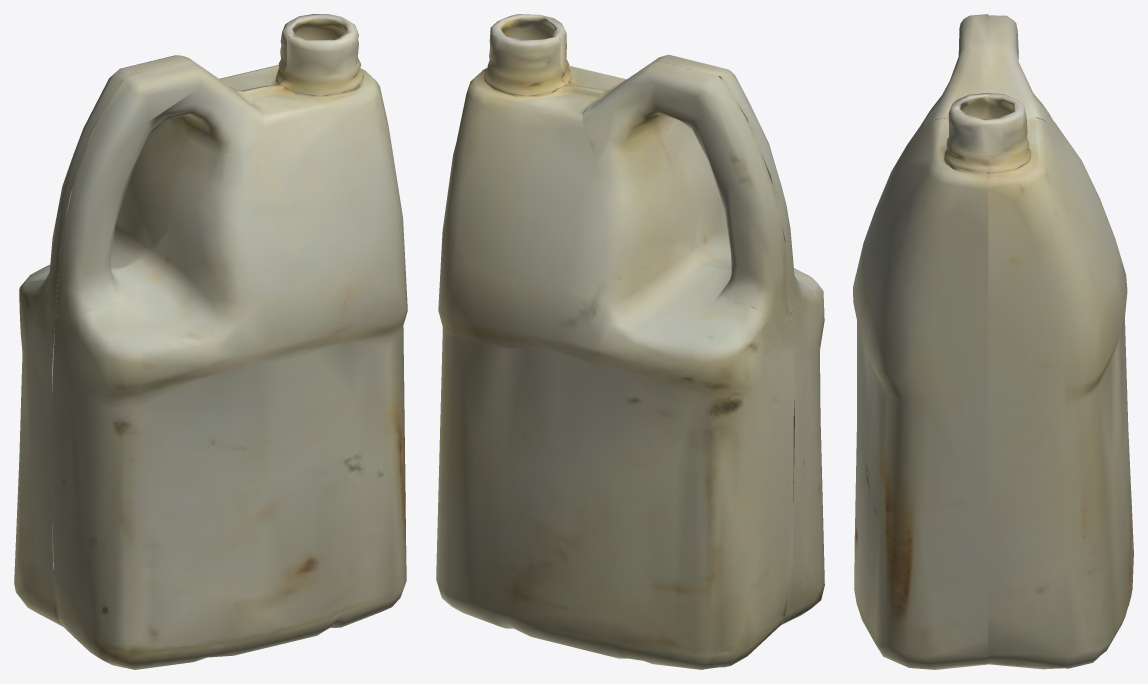
Rendered from ph_water_jug.glb.
3 views of the same model, side by side, from view 1: azimuth 30°, elevation 25°; view 2: azimuth 150°, elevation 25°; view 3: azimuth 270°, elevation 25° (orthographic).
Visible parts, largest first — view 1: plastic_bottle_gallon; view 2: plastic_bottle_gallon; view 3: plastic_bottle_gallon.
Boxes of the visible parts, <box> form: plastic_bottle_gallon: <box>14,14,407,669</box>; plastic_bottle_gallon: <box>436,14,824,669</box>; plastic_bottle_gallon: <box>853,14,1133,669</box>.
Size of the model in its own units: 0.1666 by 0.2745 by 0.1266.
Materials: 1 (1 with a texture image).
